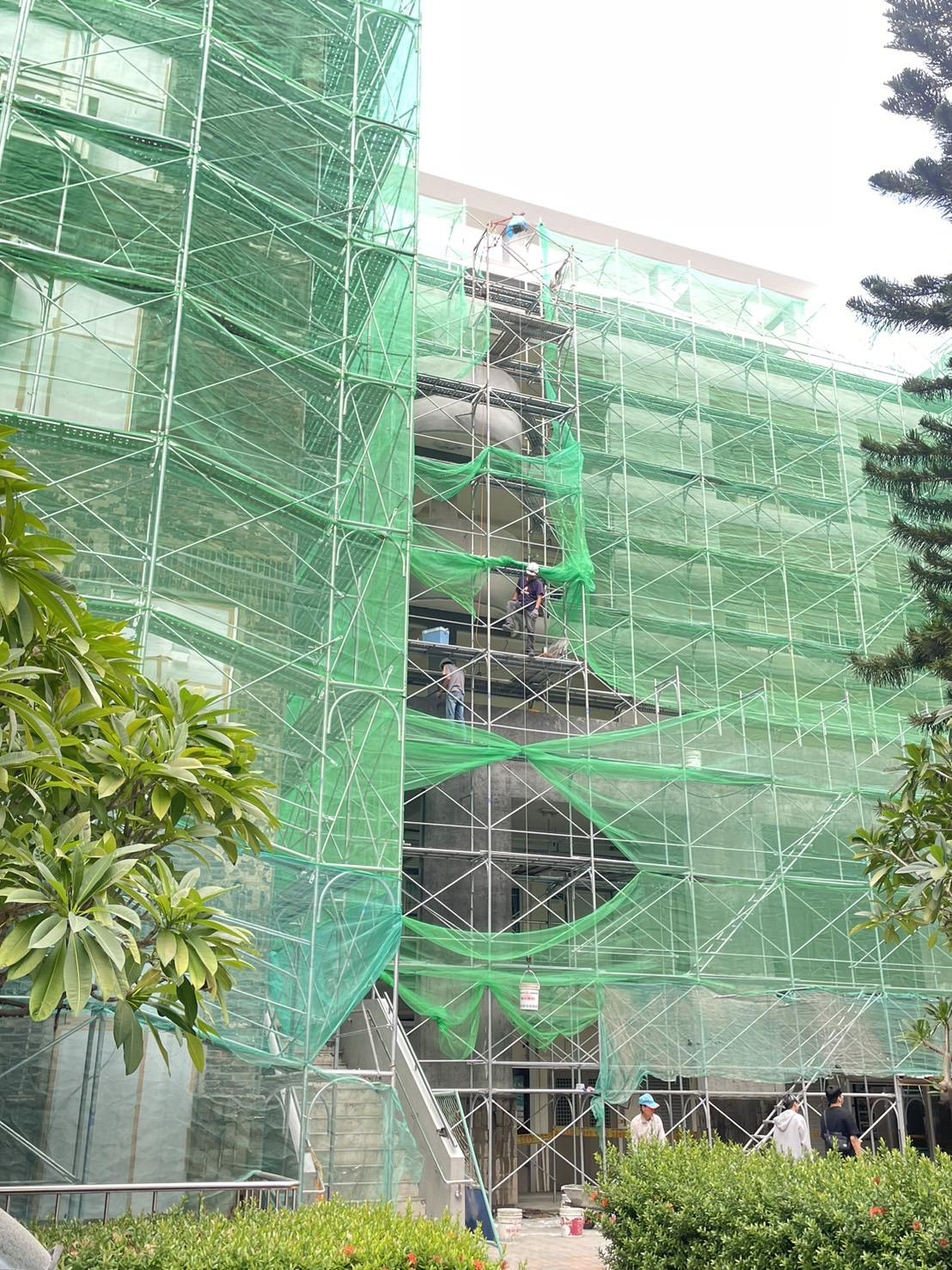Helmet: (527, 562, 540, 577)
NoHelmet: (636, 1093, 659, 1115), (782, 1093, 801, 1113), (826, 1086, 844, 1107)
